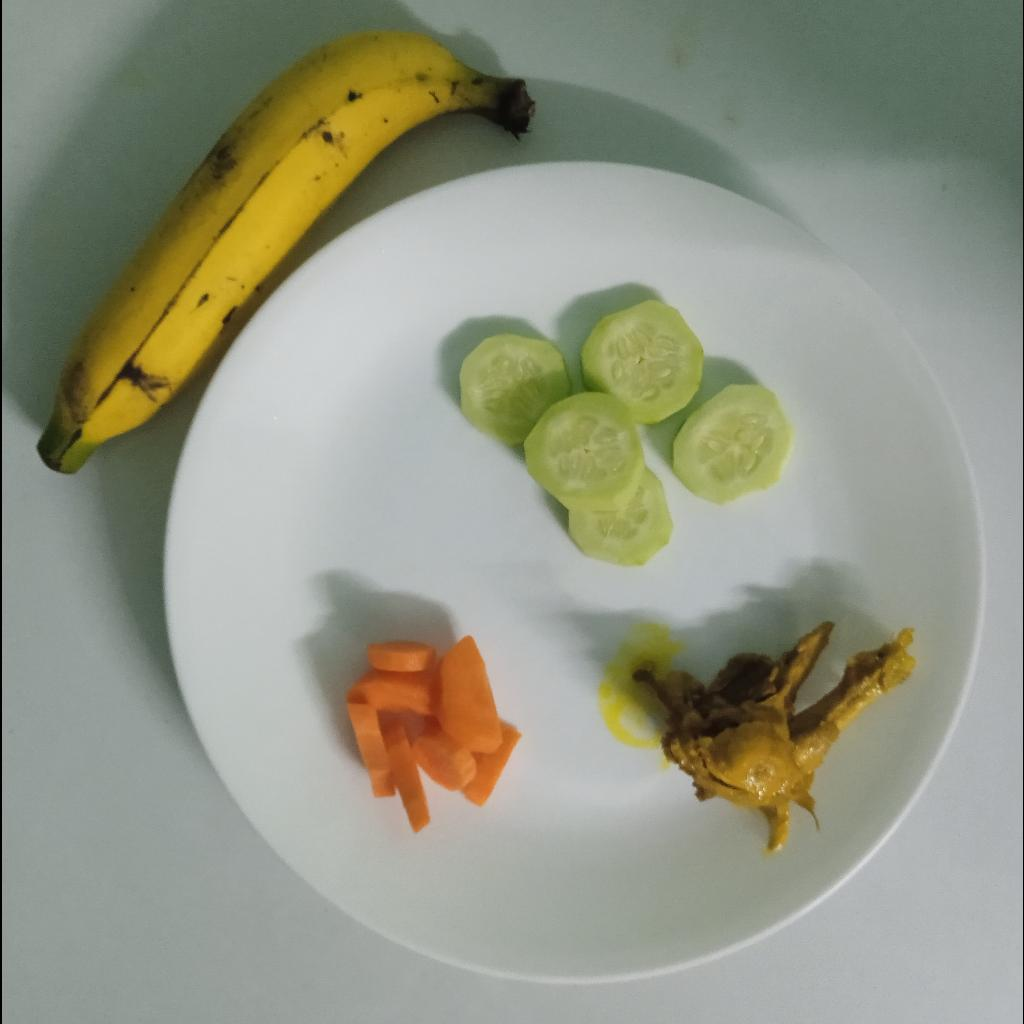banana: (34, 29, 519, 477)
carrot: (344, 634, 523, 836)
chicken: (635, 619, 917, 854)
cucumber: (456, 295, 699, 567), (670, 383, 795, 506)
